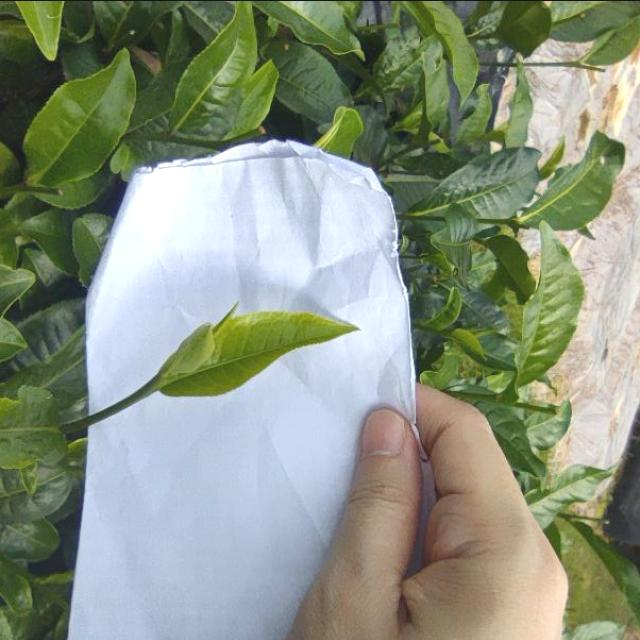Stem: (127, 382, 152, 408)
